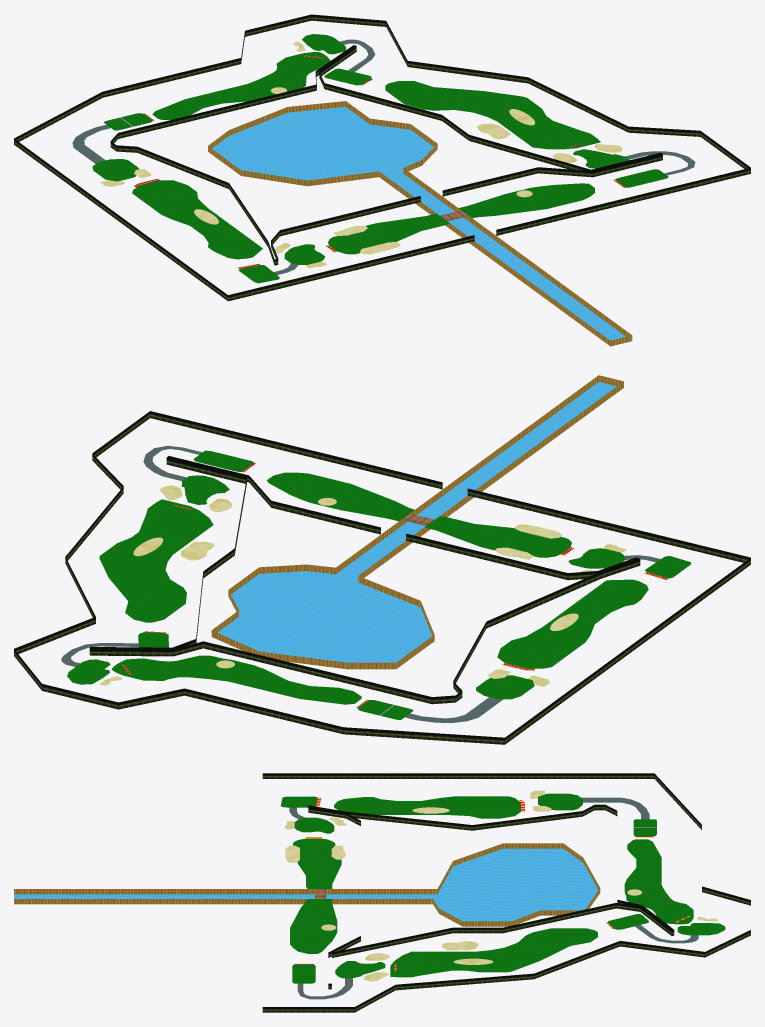
The picture shows the model from 3 angles, top to bottom: view 1: azimuth 30°, elevation 25°; view 2: azimuth 150°, elevation 25°; view 3: azimuth 270°, elevation 25°; orthographic projection. The views are drawn at different scales.
Parts seen in each view (by area): view 1: polygon1.008, polygon12.006, polygon13.006, polygon10.006, polygon11.008, polygon26.003; view 2: polygon1.008, polygon12.006, polygon13.006, polygon10.006, polygon11.008, polygon26.003; view 3: polygon1.008, polygon13.006, polygon12.006, polygon10.006, polygon11.008, polygon26.003.
Boxes of the visible parts, box(x1,y1,x2,y2) form: polygon1.008: box(92, 34, 668, 283); polygon12.006: box(14, 14, 750, 301); polygon13.006: box(212, 107, 625, 340); polygon10.006: box(208, 101, 632, 346); polygon11.008: box(100, 41, 622, 268); polygon26.003: box(72, 39, 695, 274); polygon1.008: box(67, 450, 690, 719); polygon12.006: box(14, 411, 750, 744); polygon13.006: box(217, 382, 616, 662); polygon10.006: box(211, 375, 623, 669); polygon11.008: box(99, 485, 626, 686); polygon26.003: box(61, 445, 660, 722); polygon1.008: box(280, 793, 725, 983); polygon13.006: box(14, 848, 598, 921); polygon12.006: box(262, 773, 750, 1012); polygon10.006: box(14, 843, 600, 926); polygon11.008: box(285, 790, 717, 981); polygon26.003: box(289, 797, 698, 999).
Size of what is drawn, in the model's own units: 96275 by 2109 by 128420.
Materials: 9 (9 with a texture image).
